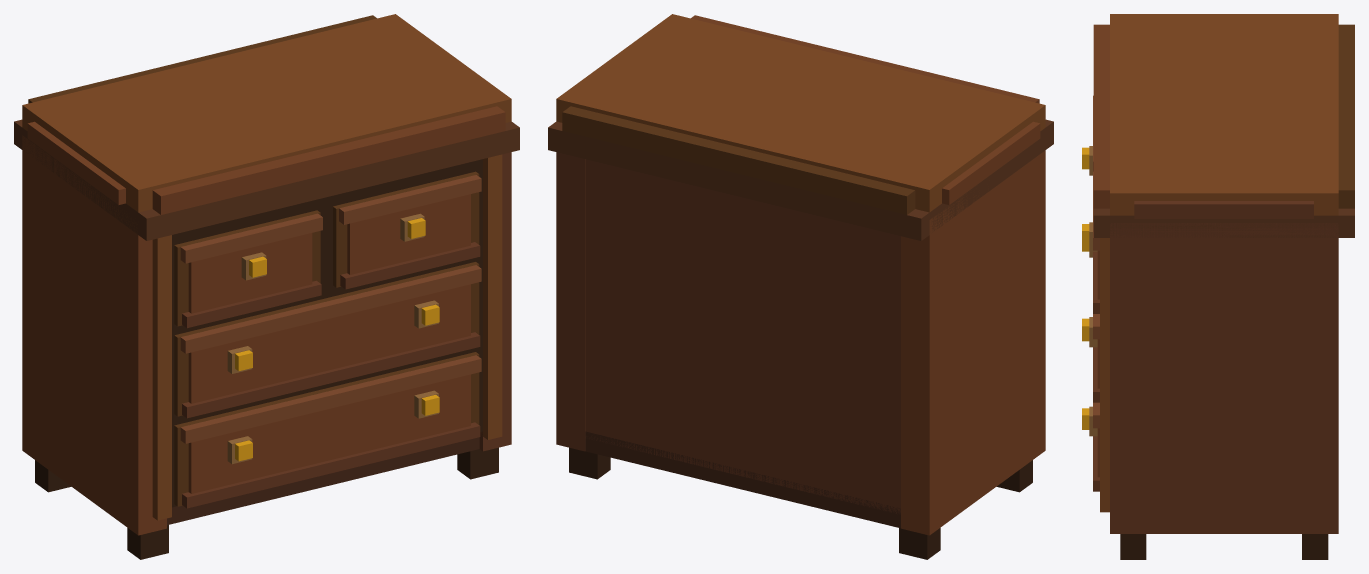
Rendered from CMU3DDresserCloud.glb.
3 renders of one model, left to right at view 1: azimuth 30°, elevation 25°; view 2: azimuth 150°, elevation 25°; view 3: azimuth 270°, elevation 25°, orthographic.
Visible parts, largest first — view 1: top central flat, left cabinet side, drawer 2-1 inset front, drawer 1-1 inset front, front stile (×2), top lower molding, top front beveled lip, dark front recess, drawer 3-1 inset front, drawer 3-2 inset front, drawer 1-1 upper lip, drawer 2-1 upper lip (+15 smaller); view 2: rear timber panel, top central flat, left cabinet side, top lower molding, top rear beveled lip, right cabinet side, lower cabinet floor, top left rounded step, timber foot (×2), top front beveled lip; view 3: right cabinet side, top central flat, top lower molding, top right rounded step, top front beveled lip, top rear beveled lip, front stile, timber foot (×2).
Boxes of the visible parts, x1=… form: top central flat: x1=22, y1=14, x2=511, y2=212; left cabinet side: x1=22, y1=135, x2=166, y2=535; drawer 2-1 inset front: x1=188, y1=284, x2=470, y2=403; drawer 1-1 inset front: x1=188, y1=374, x2=470, y2=493; front stile (×2): x1=152, y1=154, x2=502, y2=520; top lower molding: x1=14, y1=119, x2=519, y2=240; top front beveled lip: x1=152, y1=106, x2=505, y2=214; dark front recess: x1=172, y1=159, x2=482, y2=507; drawer 3-1 inset front: x1=188, y1=233, x2=312, y2=313; drawer 3-2 inset front: x1=347, y1=194, x2=470, y2=274; drawer 1-1 upper lip: x1=180, y1=355, x2=481, y2=443; drawer 2-1 upper lip: x1=180, y1=265, x2=481, y2=353; rear timber panel: x1=585, y1=159, x2=900, y2=514; top central flat: x1=556, y1=14, x2=1045, y2=212; left cabinet side: x1=901, y1=150, x2=1045, y2=535; top lower molding: x1=548, y1=119, x2=1053, y2=240; top rear beveled lip: x1=562, y1=106, x2=915, y2=214; right cabinet side: x1=556, y1=152, x2=585, y2=451; lower cabinet floor: x1=585, y1=431, x2=900, y2=528; top left rounded step: x1=942, y1=121, x2=1040, y2=204; timber foot (×2): x1=569, y1=447, x2=940, y2=559; top front beveled lip: x1=691, y1=15, x2=1039, y2=103; right cabinet side: x1=1110, y1=223, x2=1338, y2=533; top central flat: x1=1110, y1=14, x2=1338, y2=215; top lower molding: x1=1093, y1=208, x2=1354, y2=237; top right rounded step: x1=1134, y1=201, x2=1313, y2=218; top front beveled lip: x1=1093, y1=24, x2=1109, y2=208; top rear beveled lip: x1=1338, y1=24, x2=1354, y2=208; front stile: x1=1100, y1=238, x2=1109, y2=512; timber foot (×2): x1=1120, y1=534, x2=1328, y2=559.
Bounding box in the file's own units: 0.8438 × 0.7812 × 0.522.
